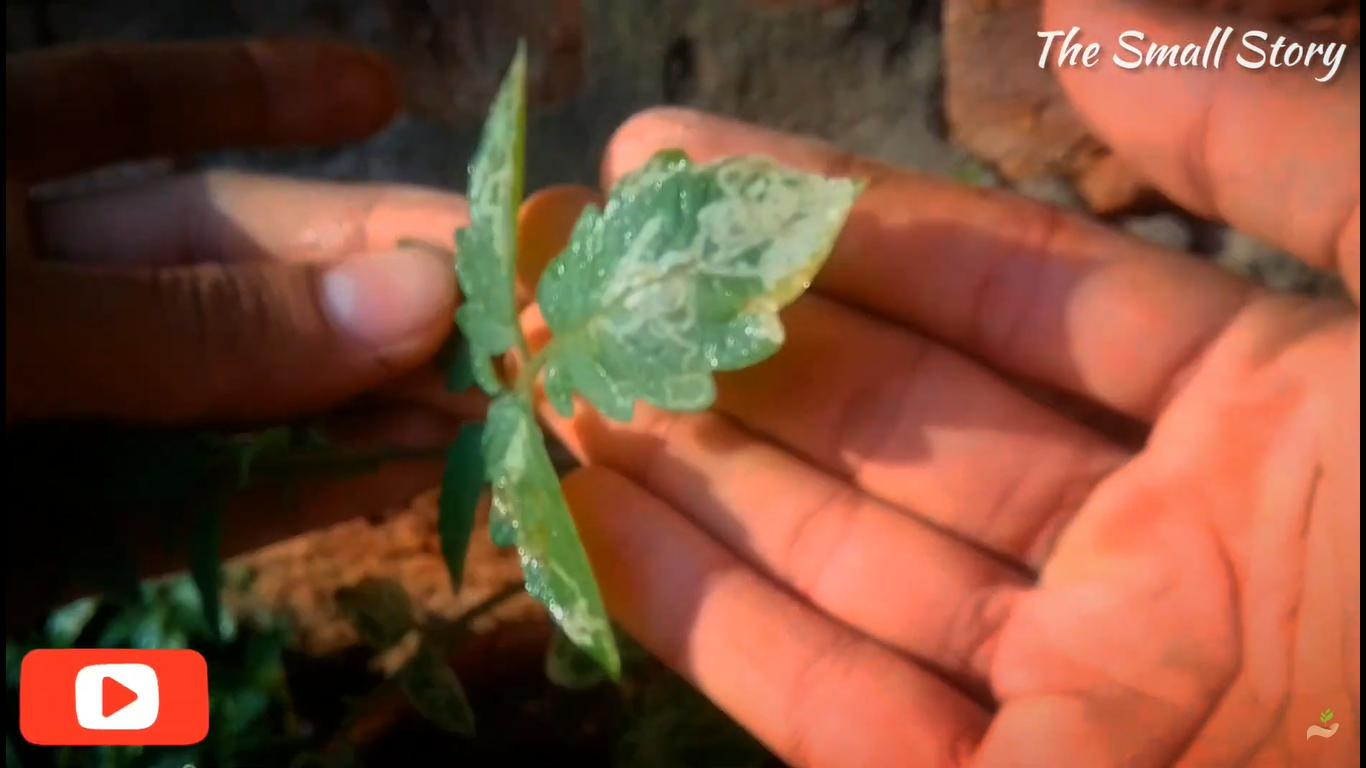Leaf_Miner: (536, 142, 872, 428), (482, 384, 632, 682), (446, 36, 532, 362)
